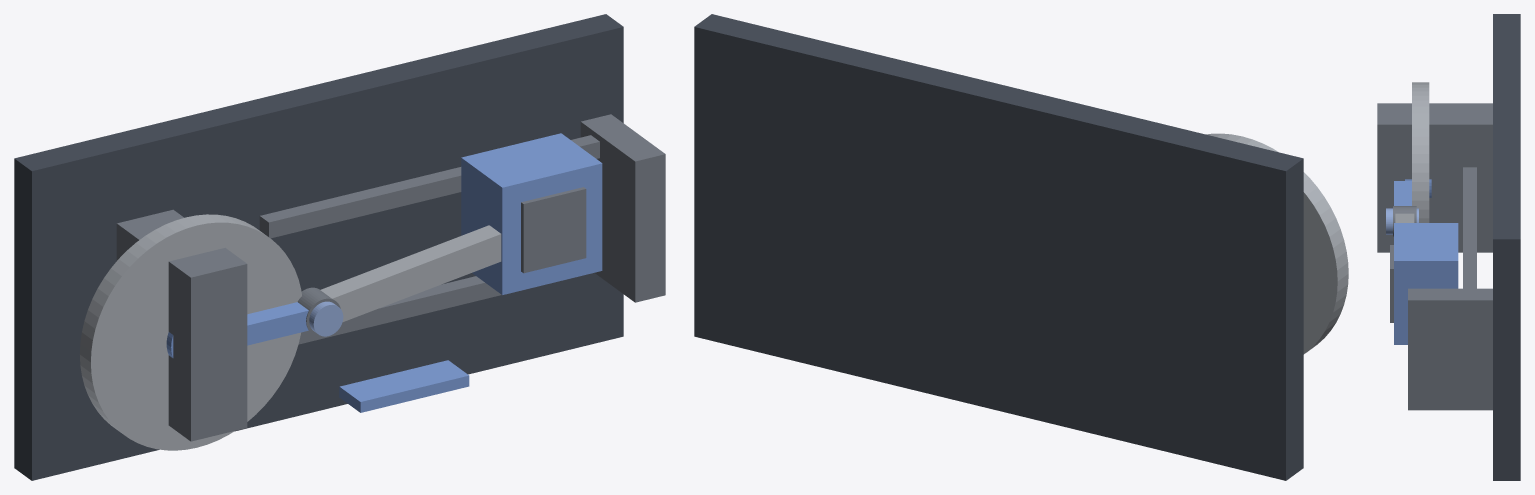
Rendered from homepage-mechanism.glb.
The picture shows the model from 3 angles, left to right: view 1: azimuth 30°, elevation 25°; view 2: azimuth 150°, elevation 25°; view 3: azimuth 270°, elevation 25°; orthographic projection. The views are drawn at different scales.
Parts seen in each view (by area): view 1: Base, Flywheel, BearingTower, Slider, EndStop, ConnectingRod, RailTop, SliderInsert, AccentPlate, RailBottom, Crank, CrankPin; view 2: Base, Flywheel; view 3: Base, BearingTower, EndStop, Slider, Flywheel, RailTop, Crank, SliderInsert, RodPinA, CrankPin, ConnectingRod.
Boxes of the visible parts, x1=… form: Base: x1=14, y1=14, x2=623, y2=480; Flywheel: x1=79, y1=214, x2=301, y2=450; BearingTower: x1=116, y1=209, x2=247, y2=441; Slider: x1=461, y1=133, x2=602, y2=294; EndStop: x1=580, y1=114, x2=665, y2=302; ConnectingRod: x1=320, y1=225, x2=501, y2=321; RailTop: x1=259, y1=135, x2=599, y2=238; SliderInsert: x1=521, y1=187, x2=586, y2=273; AccentPlate: x1=339, y1=360, x2=469, y2=412; RailBottom: x1=298, y1=276, x2=501, y2=344; Crank: x1=247, y1=302, x2=308, y2=345; CrankPin: x1=309, y1=301, x2=343, y2=336; Base: x1=694, y1=14, x2=1303, y2=480; Flywheel: x1=1206, y1=133, x2=1348, y2=354; Base: x1=1493, y1=14, x2=1520, y2=480; BearingTower: x1=1377, y1=103, x2=1492, y2=252; EndStop: x1=1408, y1=288, x2=1492, y2=410; Slider: x1=1394, y1=223, x2=1458, y2=344; Flywheel: x1=1412, y1=82, x2=1429, y2=222; RailTop: x1=1463, y1=167, x2=1476, y2=288; Crank: x1=1394, y1=181, x2=1411, y2=205; SliderInsert: x1=1390, y1=245, x2=1393, y2=322; RodPinA: x1=1393, y1=206, x2=1416, y2=237; CrankPin: x1=1386, y1=208, x2=1418, y2=234; ConnectingRod: x1=1395, y1=213, x2=1414, y2=222.
Size of the model in its own units: 6.8 by 3.4 by 1.83.
